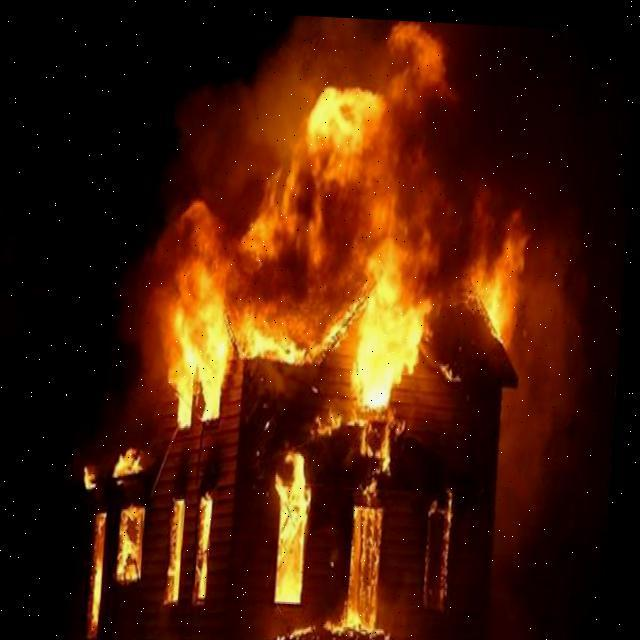Fire: (42, 28, 552, 639)
